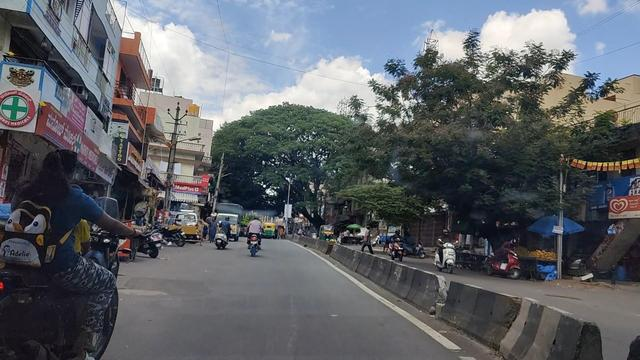LMV: (2, 149, 126, 359)
RoadDamages: (123, 277, 177, 307)
